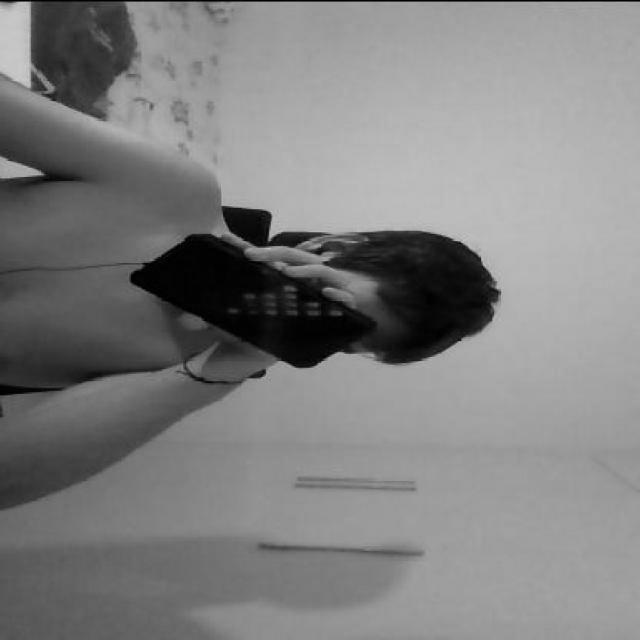fake: (124, 229, 376, 369)
